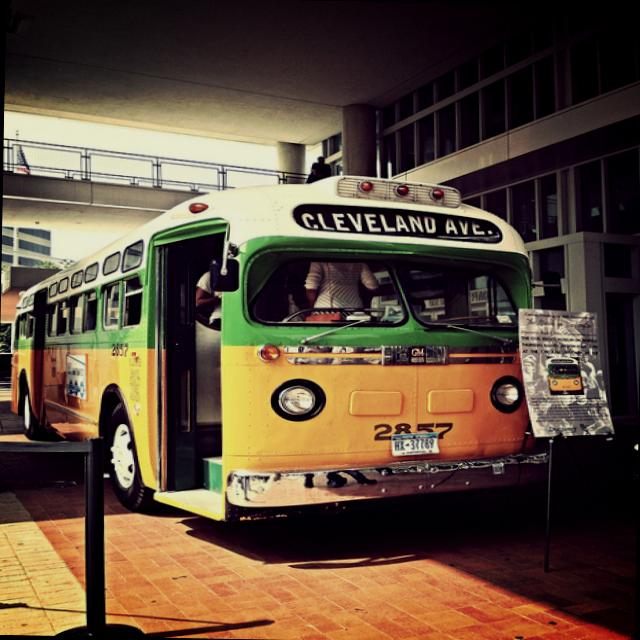Vehicle: (6, 170, 553, 526)
